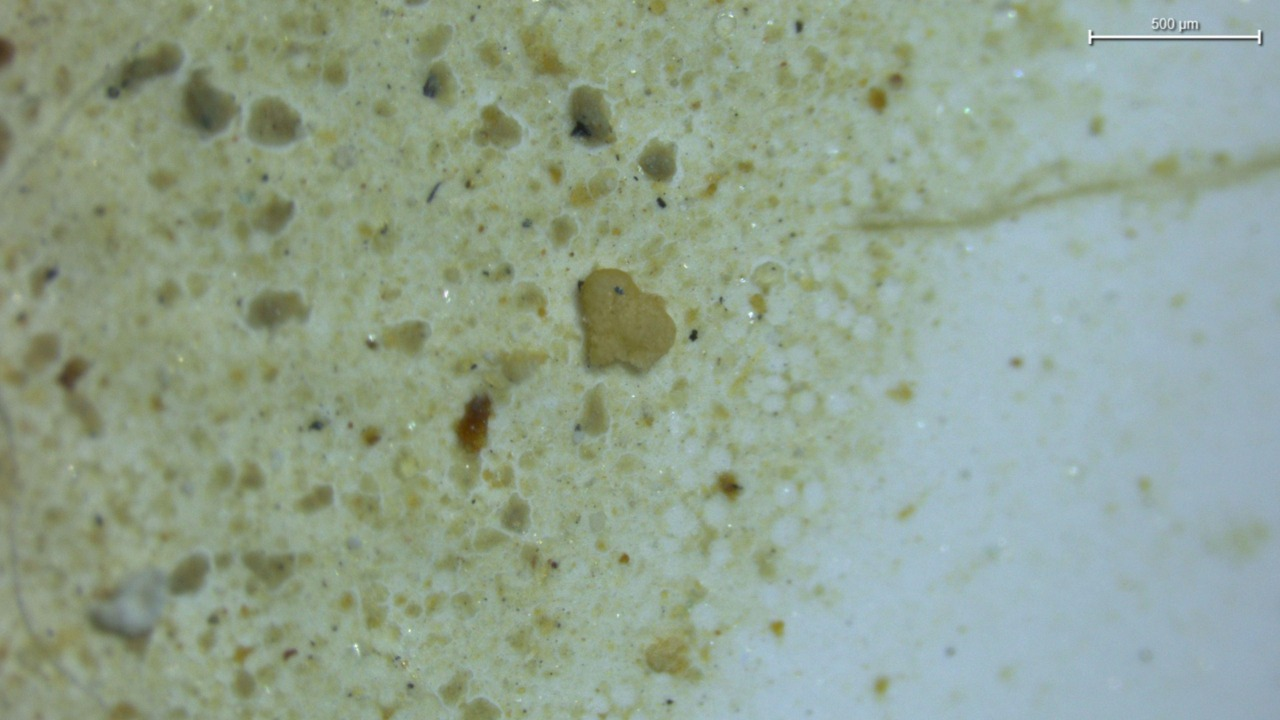microplastic_fragment: (577, 268, 676, 371)
